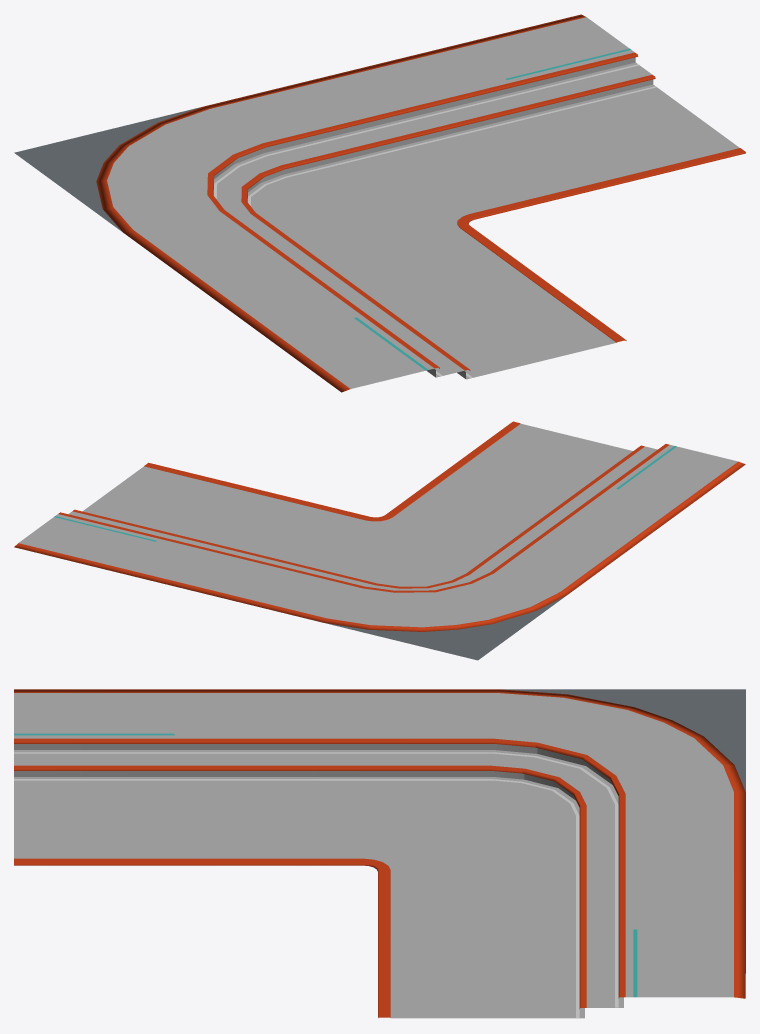
Rendered from W_O_Cafe_Stairs_001_a_L1.fbx.
3 renders of one model, top to bottom at view 1: azimuth 30°, elevation 25°; view 2: azimuth 150°, elevation 25°; view 3: azimuth 270°, elevation 25°, orthographic. The views are drawn at different scales.
Parts seen in each view (by area): view 1: W_O_Cafe_Stairs_001_a_L1; view 2: W_O_Cafe_Stairs_001_a_L1; view 3: W_O_Cafe_Stairs_001_a_L1.
Part boxes in pixels (x1=…): W_O_Cafe_Stairs_001_a_L1: x1=14, y1=14, x2=745, y2=392; W_O_Cafe_Stairs_001_a_L1: x1=14, y1=421, x2=745, y2=660; W_O_Cafe_Stairs_001_a_L1: x1=14, y1=689, x2=745, y2=1018.
Bounding box in the file's own units: 16 × 16 × 0.5386.
